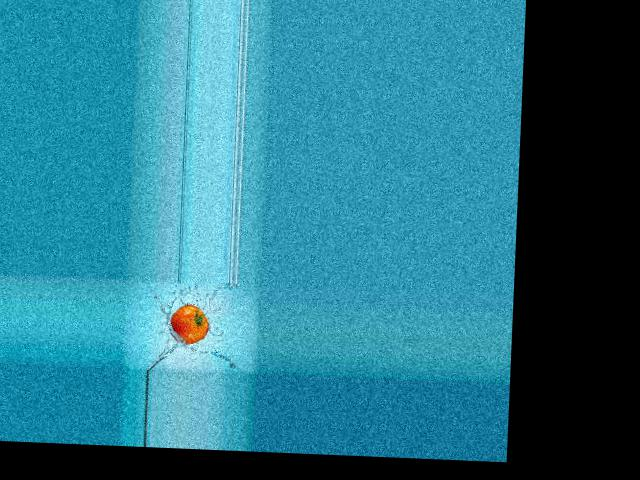tomato: (169, 303, 209, 344)
